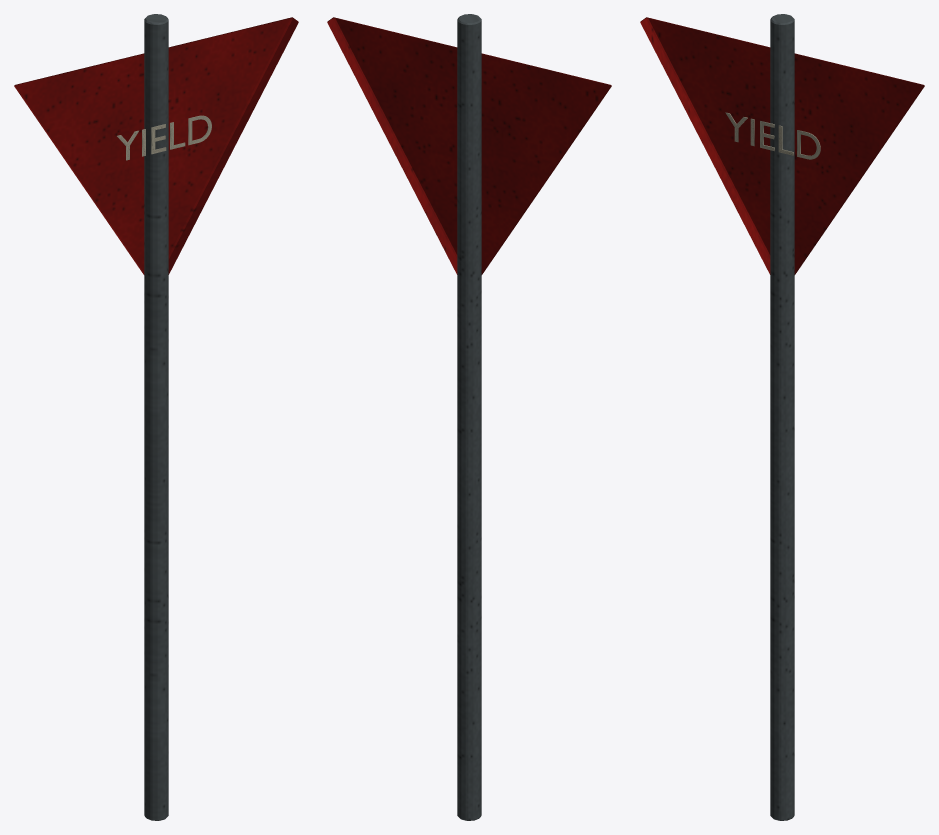
The model's file is PROP-773118451561_lod1.glb.
The picture shows the model from 3 angles, left to right: view 1: azimuth 30°, elevation 25°; view 2: azimuth 150°, elevation 25°; view 3: azimuth 330°, elevation 25°; orthographic projection.
Parts seen in each view (by area): view 1: shaped_sign_plate.011, sign_post.033, sign_letters_YIELD.001; view 2: shaped_sign_plate.011, sign_post.033; view 3: shaped_sign_plate.011, sign_post.033, sign_letters_YIELD.001.
Boxes of the visible parts, x1,y1,x2,y2 form: shaped_sign_plate.011: (14, 17, 298, 274); sign_post.033: (144, 14, 168, 820); sign_letters_YIELD.001: (117, 115, 211, 160); shaped_sign_plate.011: (327, 17, 611, 274); sign_post.033: (457, 14, 481, 820); shaped_sign_plate.011: (640, 17, 924, 274); sign_post.033: (770, 14, 794, 820); sign_letters_YIELD.001: (725, 112, 820, 159).
Size of the model in its own units: 0.8965 by 2.45 by 0.0823.
Materials: 3 (3 with a texture image).
